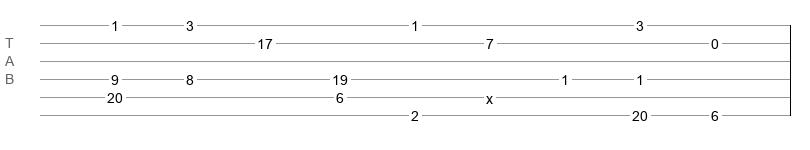0: (711, 36, 719, 46)
1: (111, 18, 119, 28), (411, 18, 419, 28), (561, 72, 569, 82), (636, 72, 644, 82)
17: (257, 36, 273, 46)
19: (332, 72, 348, 82)
2: (411, 108, 419, 118)
20: (107, 90, 123, 100), (632, 108, 648, 118)
3: (186, 18, 194, 28), (636, 18, 644, 28)
6: (336, 90, 344, 100), (711, 108, 719, 118)
7: (486, 36, 494, 46)
8: (186, 72, 194, 82)
9: (111, 72, 119, 82)
x: (486, 91, 493, 99)
